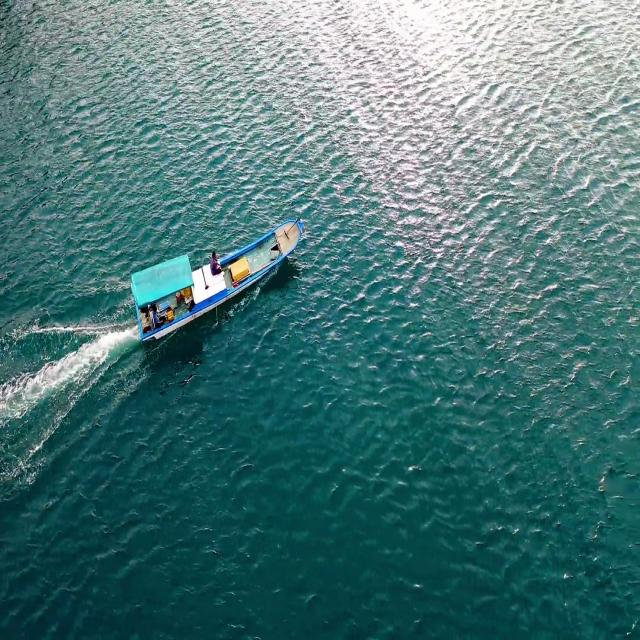ship: (127, 198, 303, 349)
